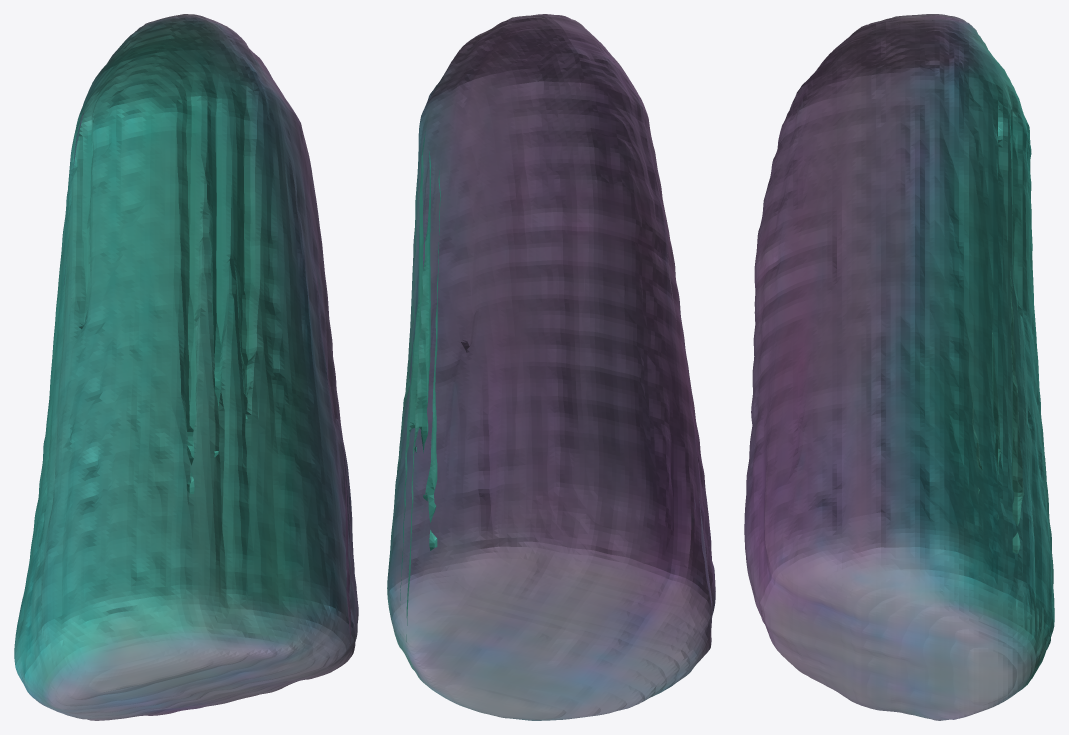
The picture shows the model from 3 angles, left to right: view 1: azimuth 30°, elevation 25°; view 2: azimuth 150°, elevation 25°; view 3: azimuth 270°, elevation 25°; orthographic projection. The views are drawn at different scales.
Visible parts, largest first — view 1: geometry_0; view 2: geometry_0; view 3: geometry_0.
Boxes of the visible parts, x1,y1,x2,y2 form: geometry_0: (14,14,358,720); geometry_0: (387,14,715,720); geometry_0: (744,14,1054,720).
Size of the model in its own units: 0.7799 by 1.6 by 0.6831.
